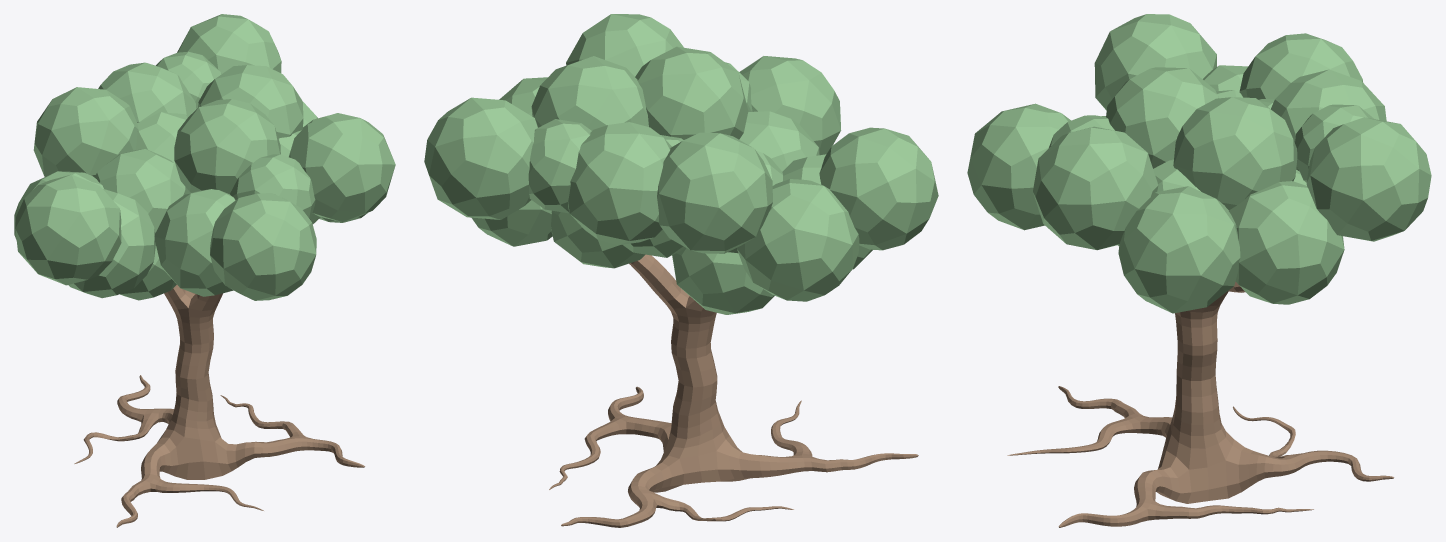
File: bigtree.fbx
3 renders of one model, left to right at view 1: azimuth 30°, elevation 25°; view 2: azimuth 150°, elevation 25°; view 3: azimuth 270°, elevation 25°, orthographic. The views are drawn at different scales.
Parts seen in each view (by area): view 1: leaf, trunk; view 2: leaf, trunk; view 3: leaf, trunk.
Boxes of the visible parts, box(x1,y1,x2,y2) form: leaf: box(14, 14, 395, 300); trunk: box(74, 285, 364, 527); leaf: box(424, 14, 938, 314); trunk: box(549, 254, 918, 527); leaf: box(967, 14, 1431, 313); trunk: box(1007, 281, 1394, 527).
Size of the model in its own units: 0.2391 by 0.2264 by 0.2239.
